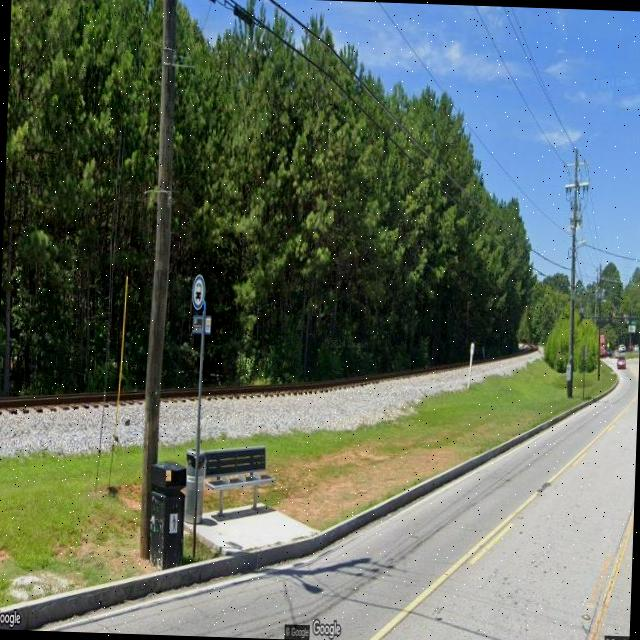seating: (199, 442, 278, 522)
trash_can: (146, 460, 186, 571), (182, 447, 205, 524)
